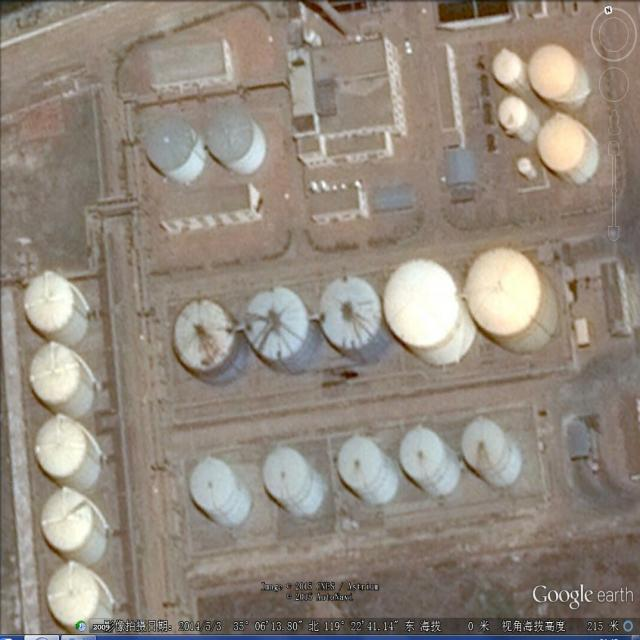oiltank: (382, 255, 482, 371), (462, 243, 562, 357), (171, 294, 251, 389), (319, 272, 397, 365), (244, 287, 324, 374), (32, 413, 106, 496), (20, 270, 92, 351), (27, 343, 99, 422), (40, 489, 110, 568), (334, 432, 403, 509), (535, 114, 604, 189), (142, 112, 210, 187), (187, 457, 255, 532), (46, 561, 115, 633), (458, 417, 526, 490), (398, 424, 464, 499), (261, 446, 326, 519), (526, 42, 591, 113), (205, 106, 269, 176), (495, 93, 545, 147), (491, 46, 538, 100)
